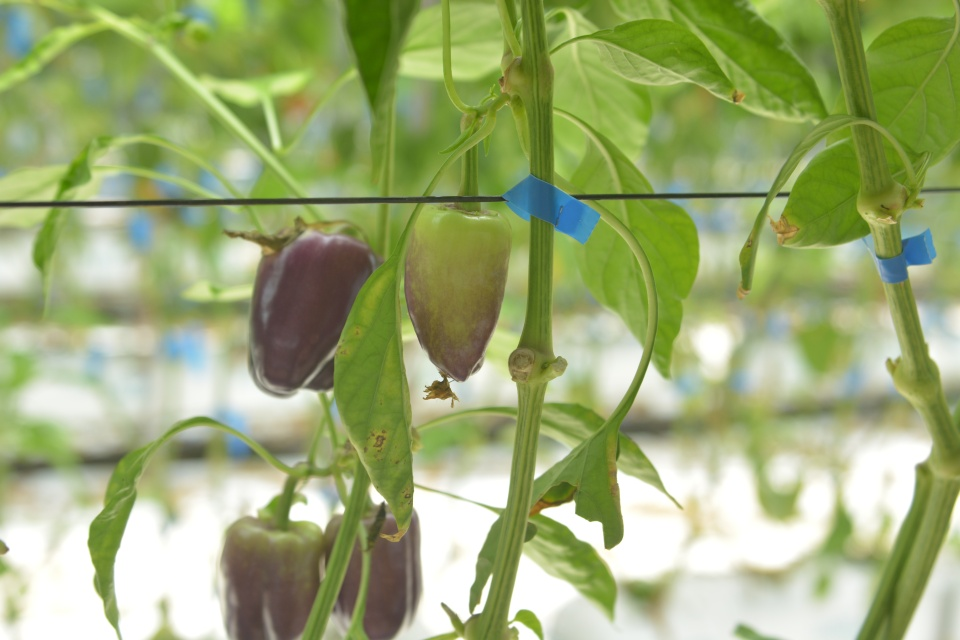fruit: (244, 224, 387, 401), (321, 500, 425, 640), (212, 511, 324, 640)
immature: (402, 202, 514, 384)
